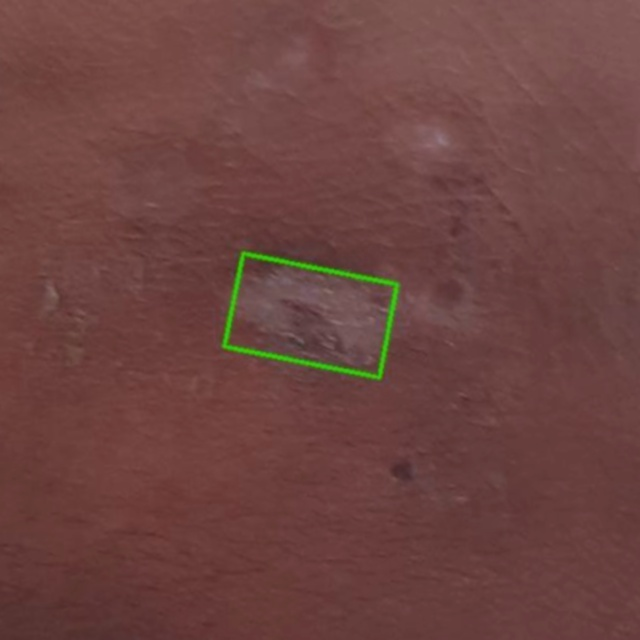Eczema: (224, 254, 396, 377)
